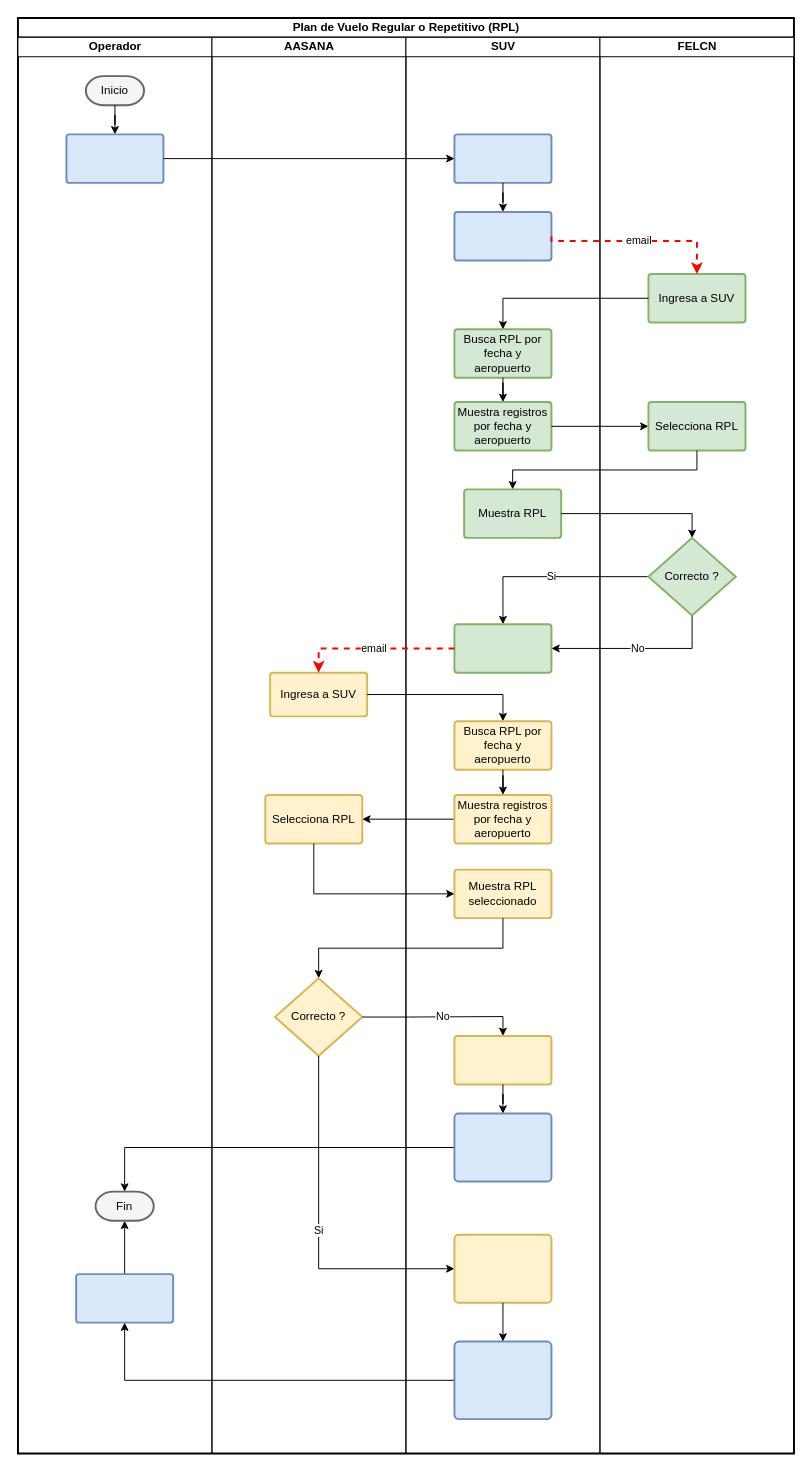
This 811x1471 diagram has some shape labels left out. The shapes that lost their labels are listed below. From the top down, each one's centre as x and y in pixels, then its label:
pixel 114 158: Registra datos de RPL en Sistema SUV
pixel 502 158: Asigna ID-RPL
pixel 502 235: Almacena información
pixel 502 648: Almacena usuario, fecha, hora y decisión
pixel 502 1060: Registra RPL rechazado
pixel 502 1147: Indica a usuario operador que su RPL fue rechazado
pixel 502 1268: Registra Plan de vuelos
pixel 124 1298: Recibe notificación
pixel 502 1380: Comunica que RLP fue aprobado a usuario operador
